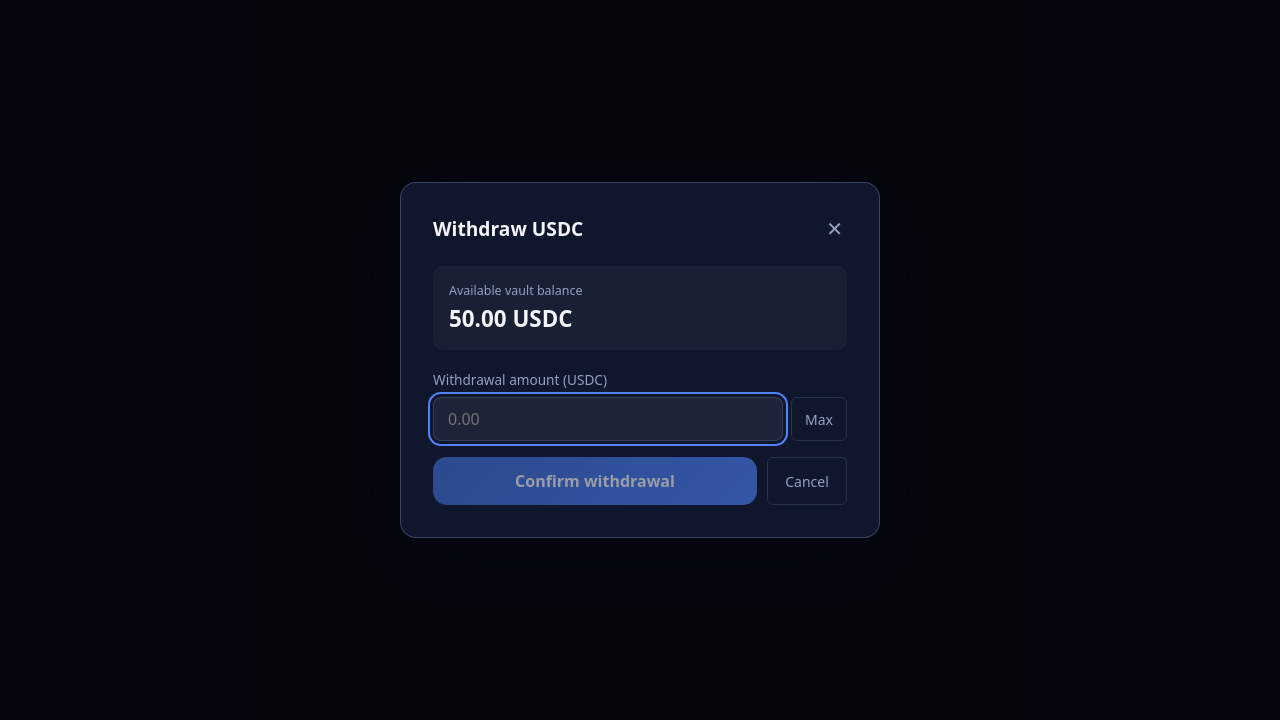
Scenario: WithdrawModal – stage transitions › transitions to failed with the error message on wallet rejection
Type "10" into the field labelled "Withdrawal amount (USDC)" at (608, 419), box [433,397,783,441]
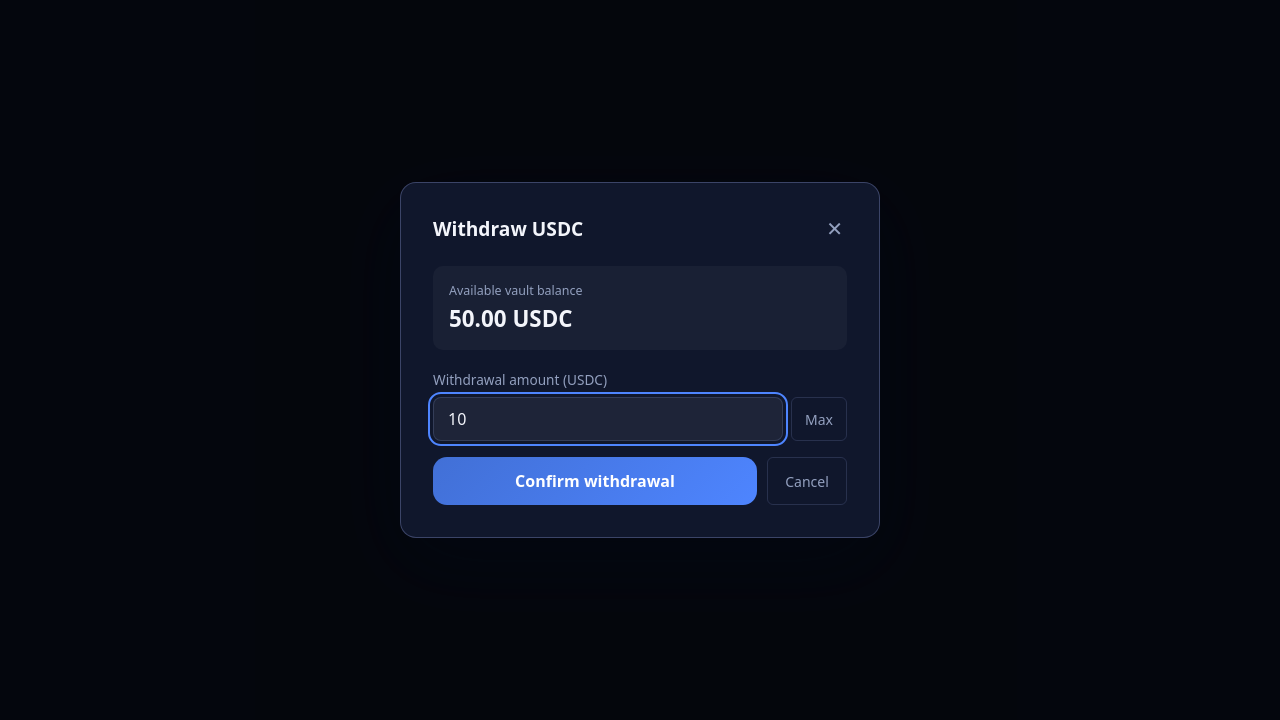
Click the button "Confirm withdrawal" at (595, 481), box [433,457,757,505]
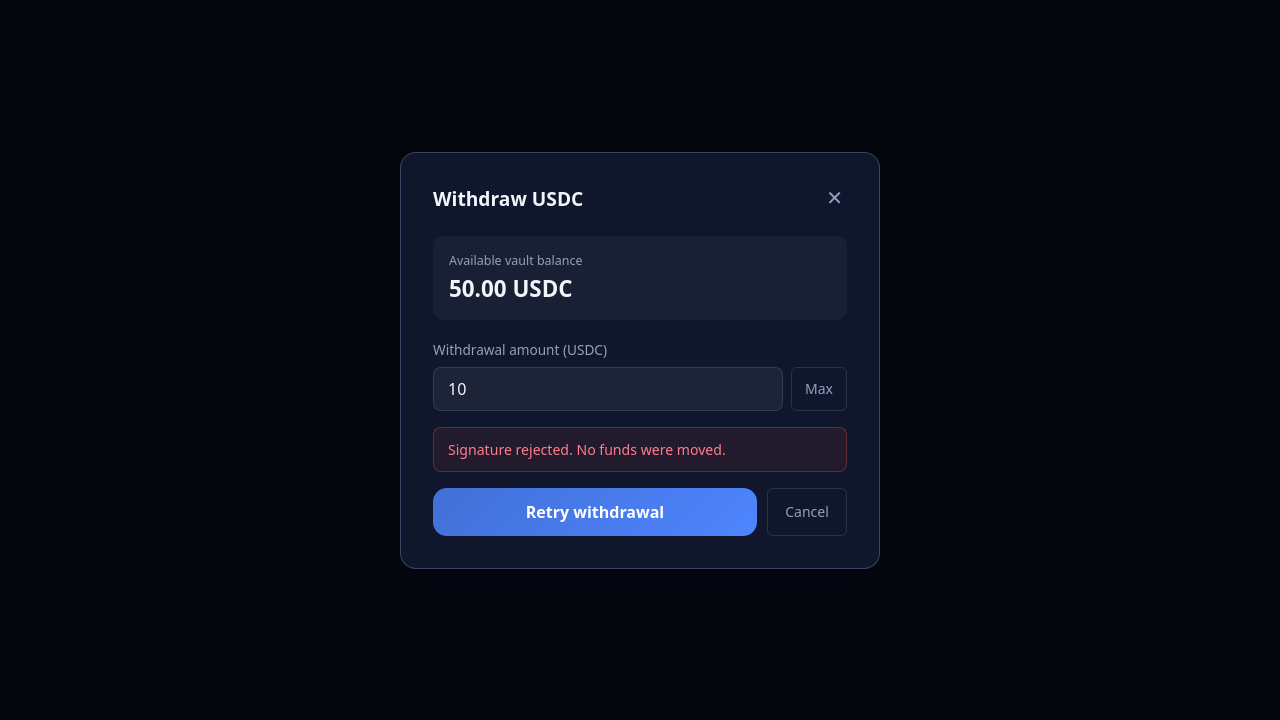
Now the text "Signature rejected. No funds were moved." is shown, box [433,426,847,472]
